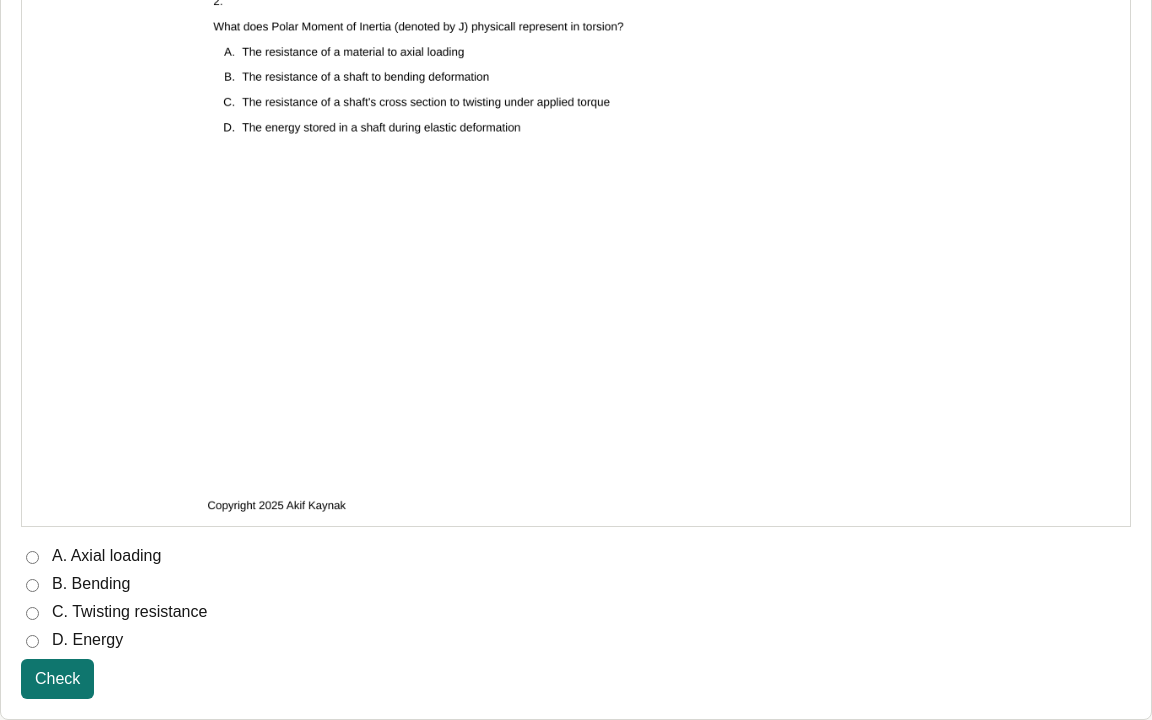
PracticeQuestion › shows a read-only AI explanation modal after an incorrect answer
(page scrolled)
Click the radio button labelled "B. Bending".
click(32, 586)  # box [26,579,39,592]
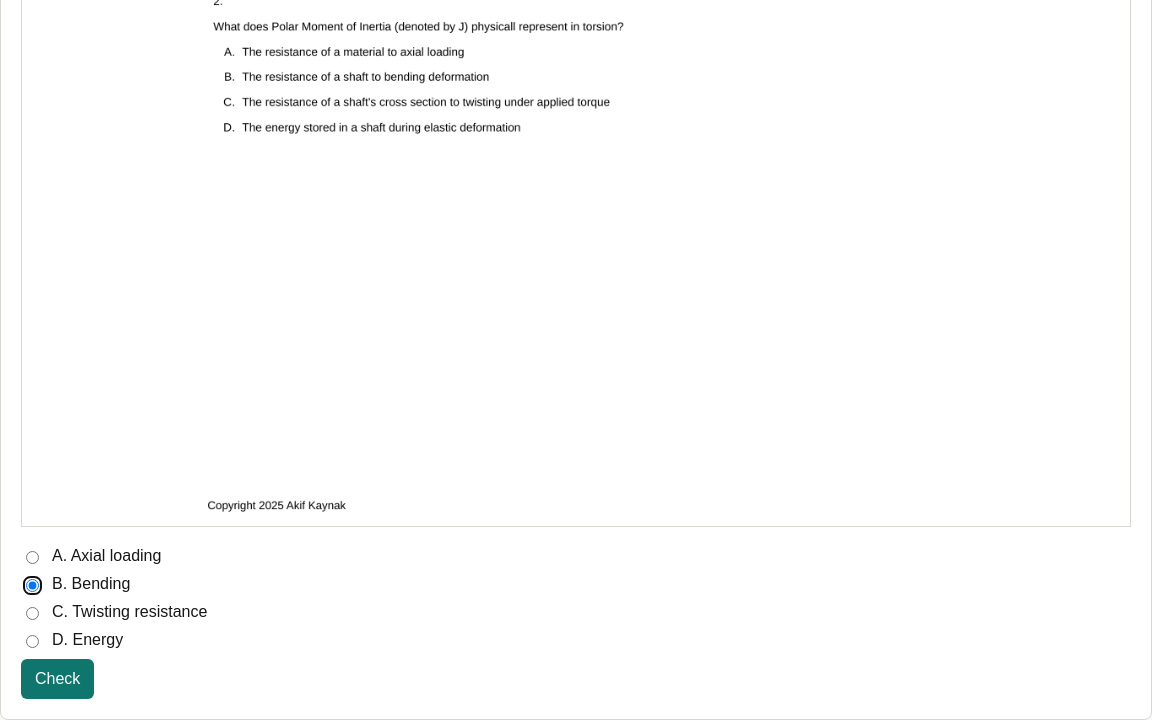
Click the button "Check".
click(58, 679)  # box [21,659,94,699]
(page scrolled)
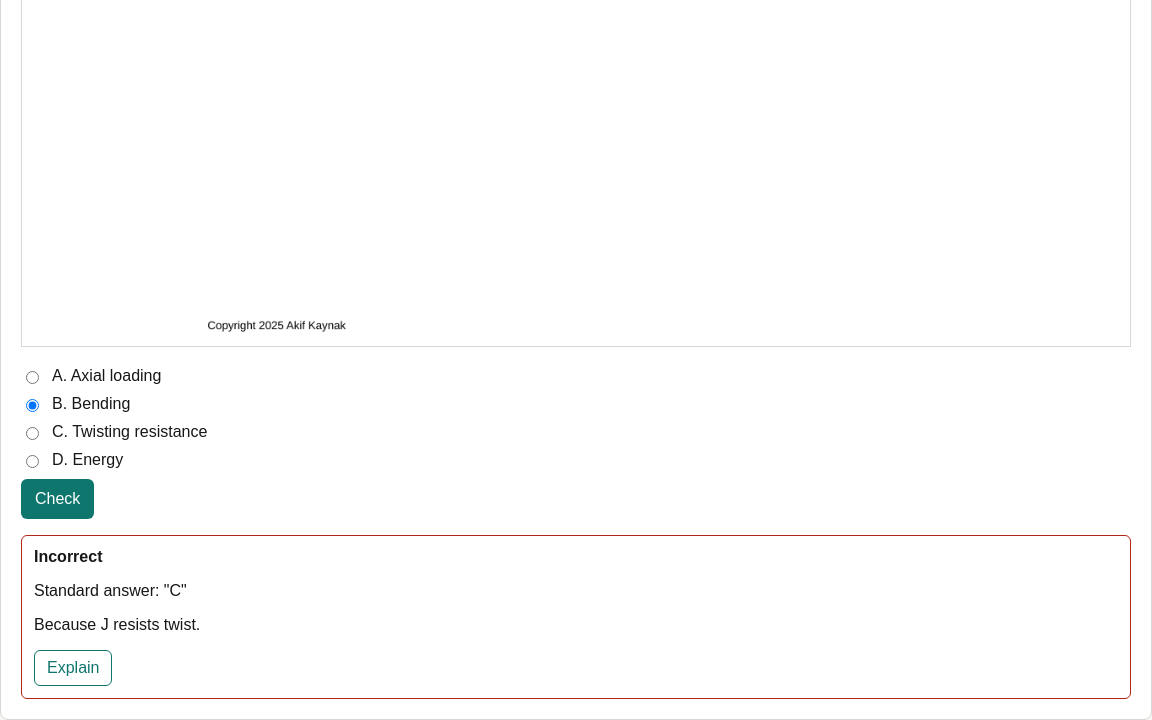
Click the button "Explain".
click(73, 668)  # box [34,650,112,686]
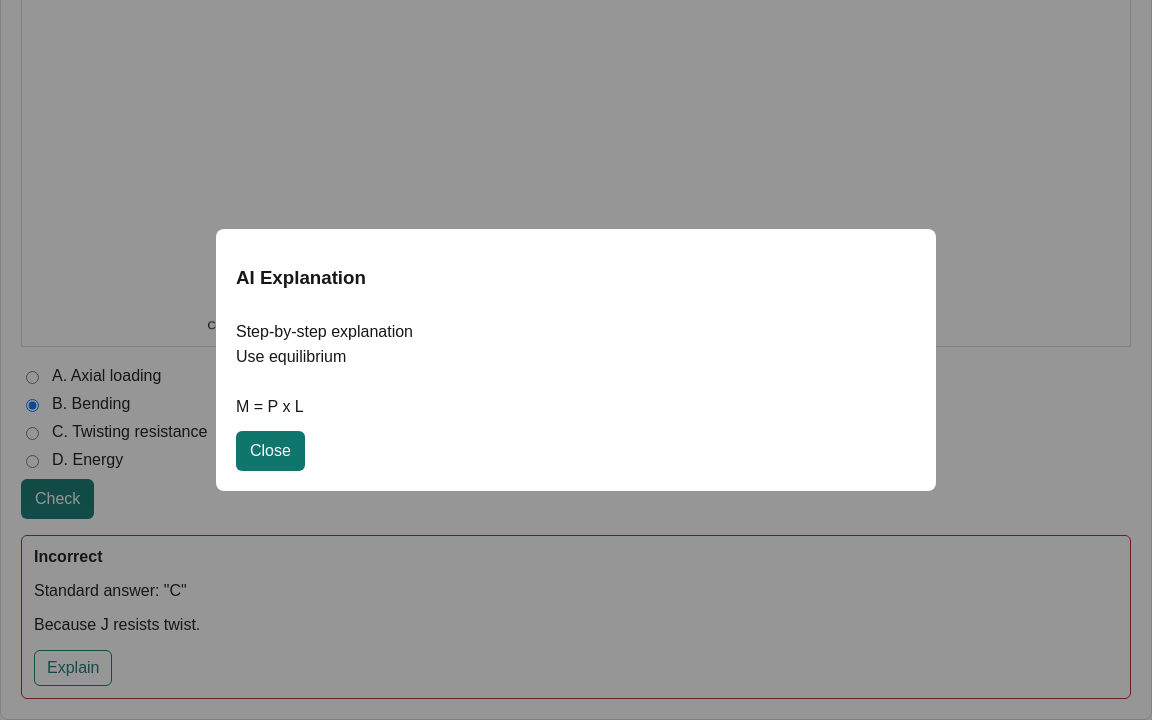
Result: the dialog "AI Explanation" is shown
Result: the text "Step-by-step explanation Use equilibrium M = P x L" is shown at [236,323,413,414]
